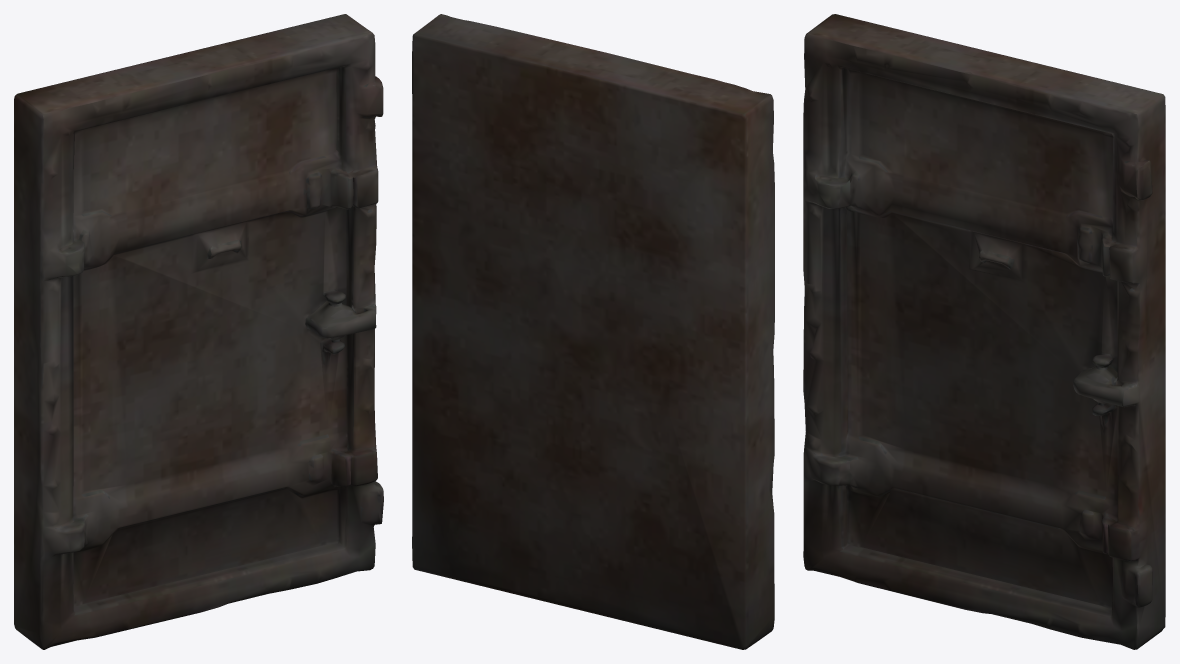
File: worn-iron-cell-door-v001.glb
The picture shows the model from 3 angles, left to right: view 1: azimuth 30°, elevation 25°; view 2: azimuth 150°, elevation 25°; view 3: azimuth 330°, elevation 25°; orthographic projection.
Visible parts, largest first — view 1: worn-iron-cell-door; view 2: worn-iron-cell-door; view 3: worn-iron-cell-door.
Part boxes in pixels (bbox=[...]): worn-iron-cell-door: bbox=[14, 14, 383, 649]; worn-iron-cell-door: bbox=[412, 14, 774, 649]; worn-iron-cell-door: bbox=[803, 14, 1165, 649].
Size of the model in its own units: 1.43 by 2.14 by 0.2623.
1 material, 1 textured.
